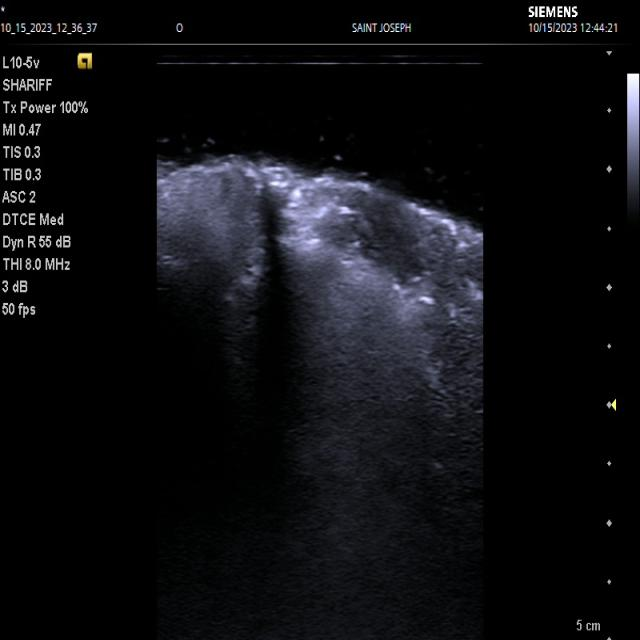tissue: (221, 163, 371, 399)
